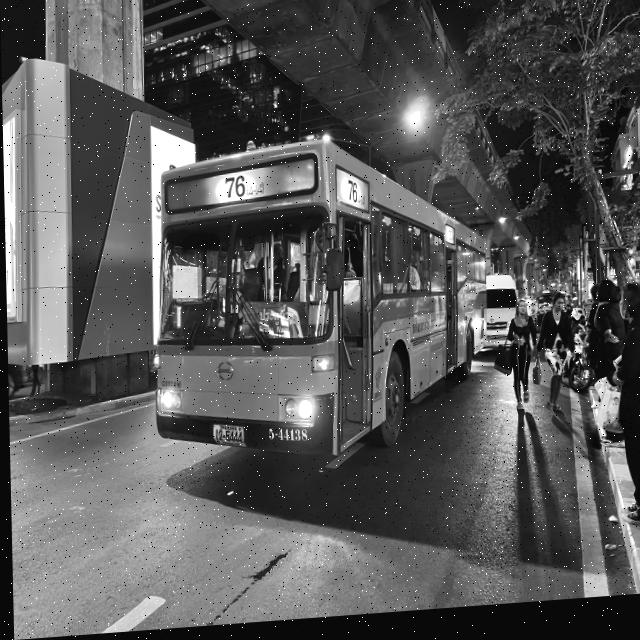BMTA-bus: (144, 122, 490, 488)
Bus-Line-Number: (220, 176, 268, 204)
Destination-Sign-Normal: (240, 301, 308, 348)
